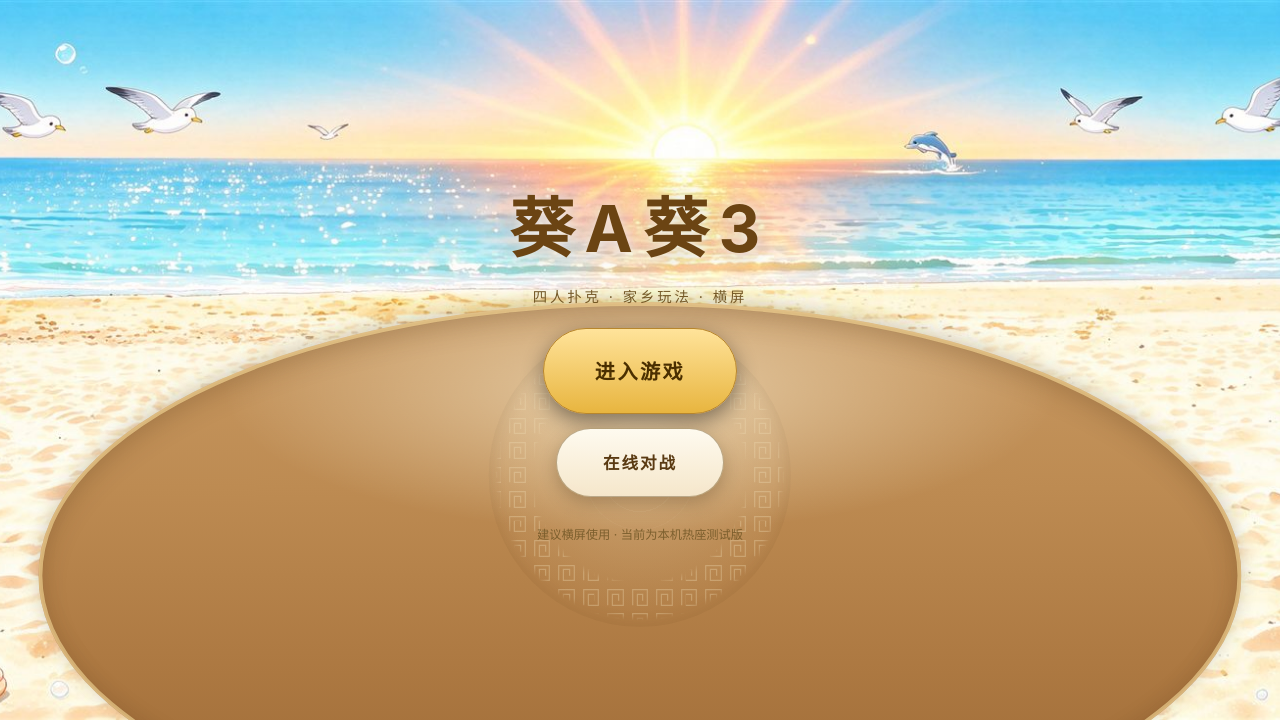
Scenario: M2 横屏界面（jsdom） › 供牌结束：不弹窗，桌面中间只有倒计时数字
Click the button "进入游戏".
click(640, 371)  # box [543, 328, 737, 414]
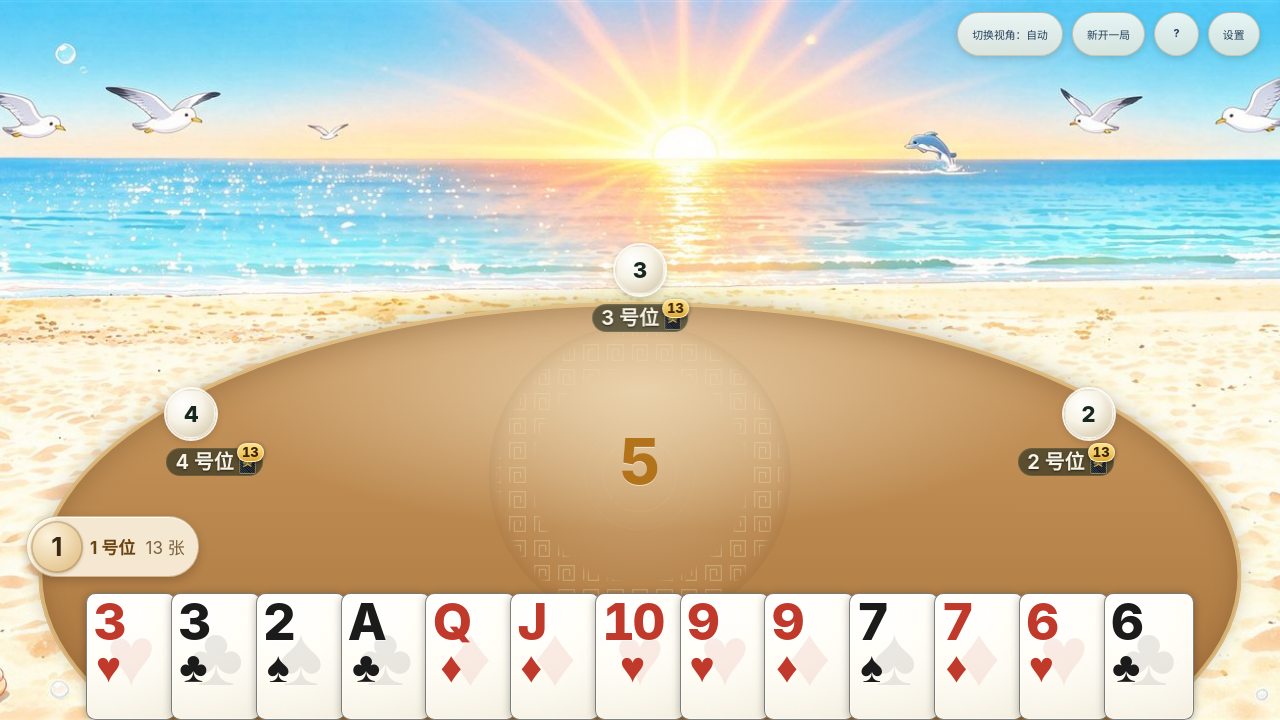
Check: the text "5" is shown, box [620, 422, 660, 499]
